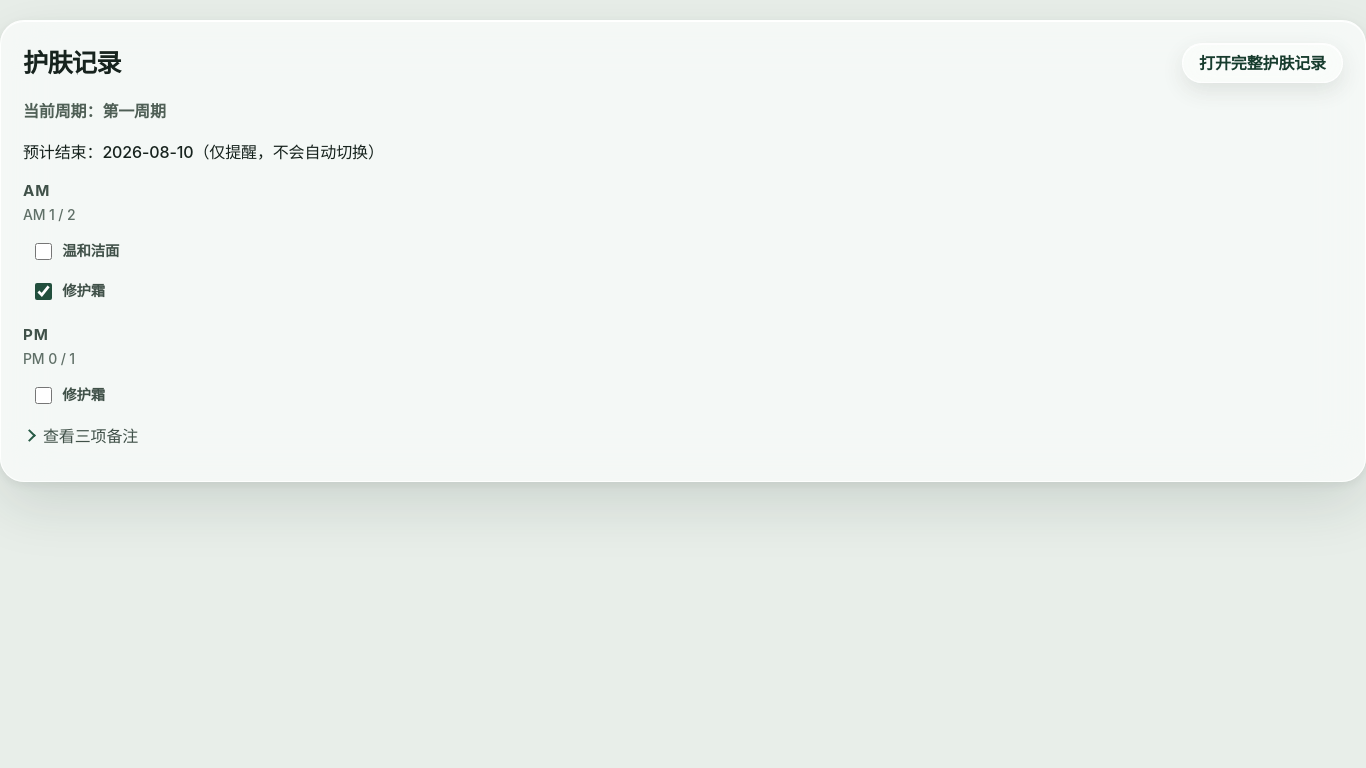
TodaySkincareCard › keeps the visible snapshot and frozen evidence when confirmation is uncertain
Step 1. Click the checkbox named "AM 温和洁面已使用" → (44, 251), box [35,243,52,260]
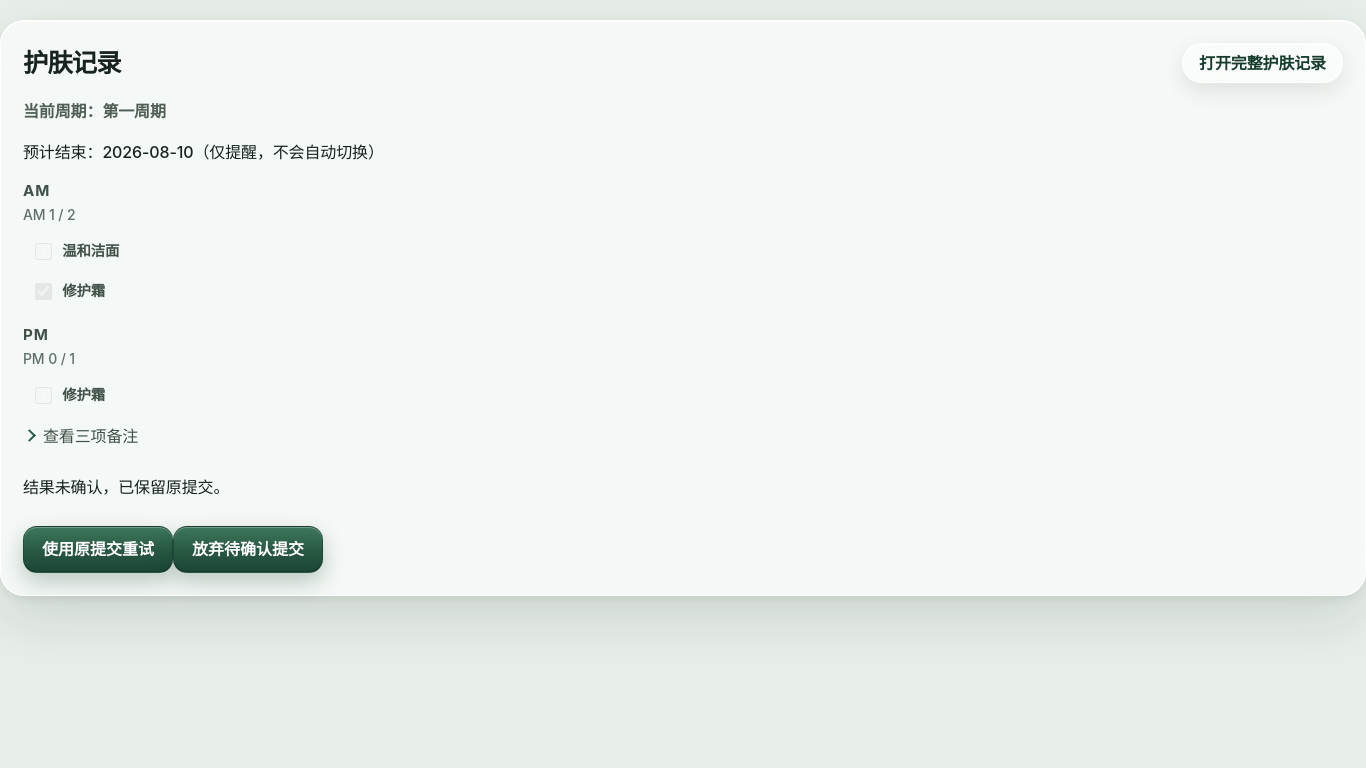
Check: the text "结果未确认，已保留原提交。" is shown, box [23,477,229,497]
